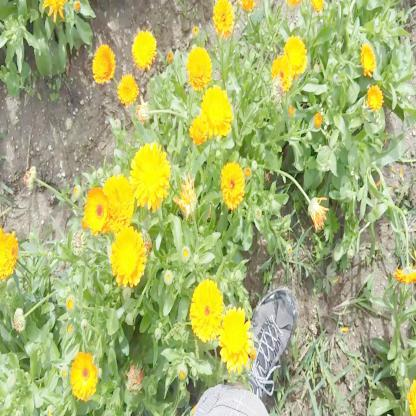marigold: (128, 142, 168, 206), (219, 306, 252, 372), (110, 226, 145, 288), (190, 281, 223, 341), (200, 86, 231, 135), (69, 352, 96, 400), (85, 188, 110, 236), (187, 45, 212, 89), (219, 162, 242, 209), (104, 177, 129, 217), (131, 30, 155, 66), (91, 45, 115, 81), (0, 229, 17, 277), (284, 37, 306, 73), (212, 2, 235, 36), (116, 72, 140, 103), (361, 80, 383, 112), (358, 43, 376, 78), (271, 57, 291, 88)
